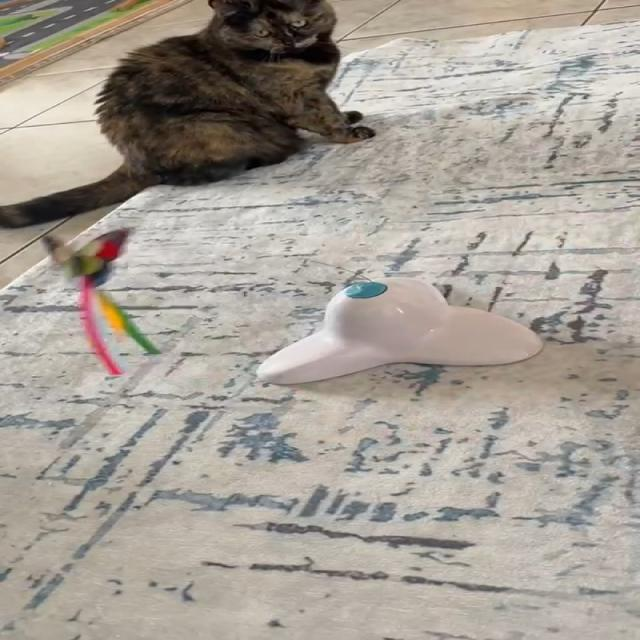authorized: (0, 0, 375, 229)
